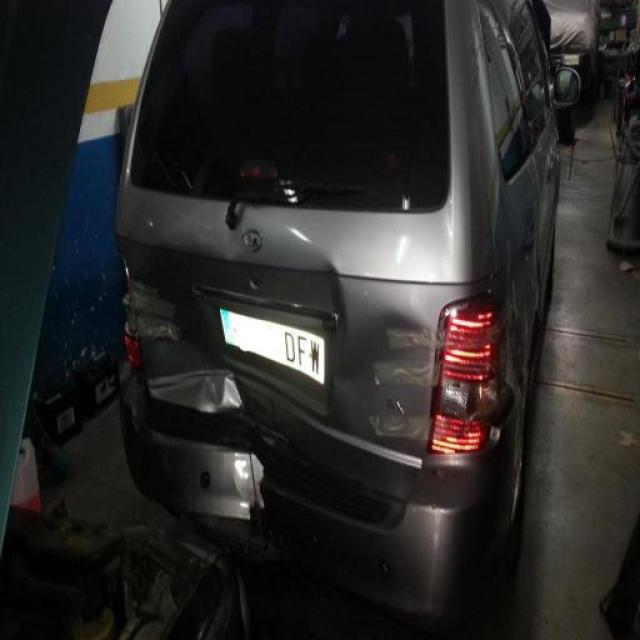crush: (118, 202, 449, 591)
